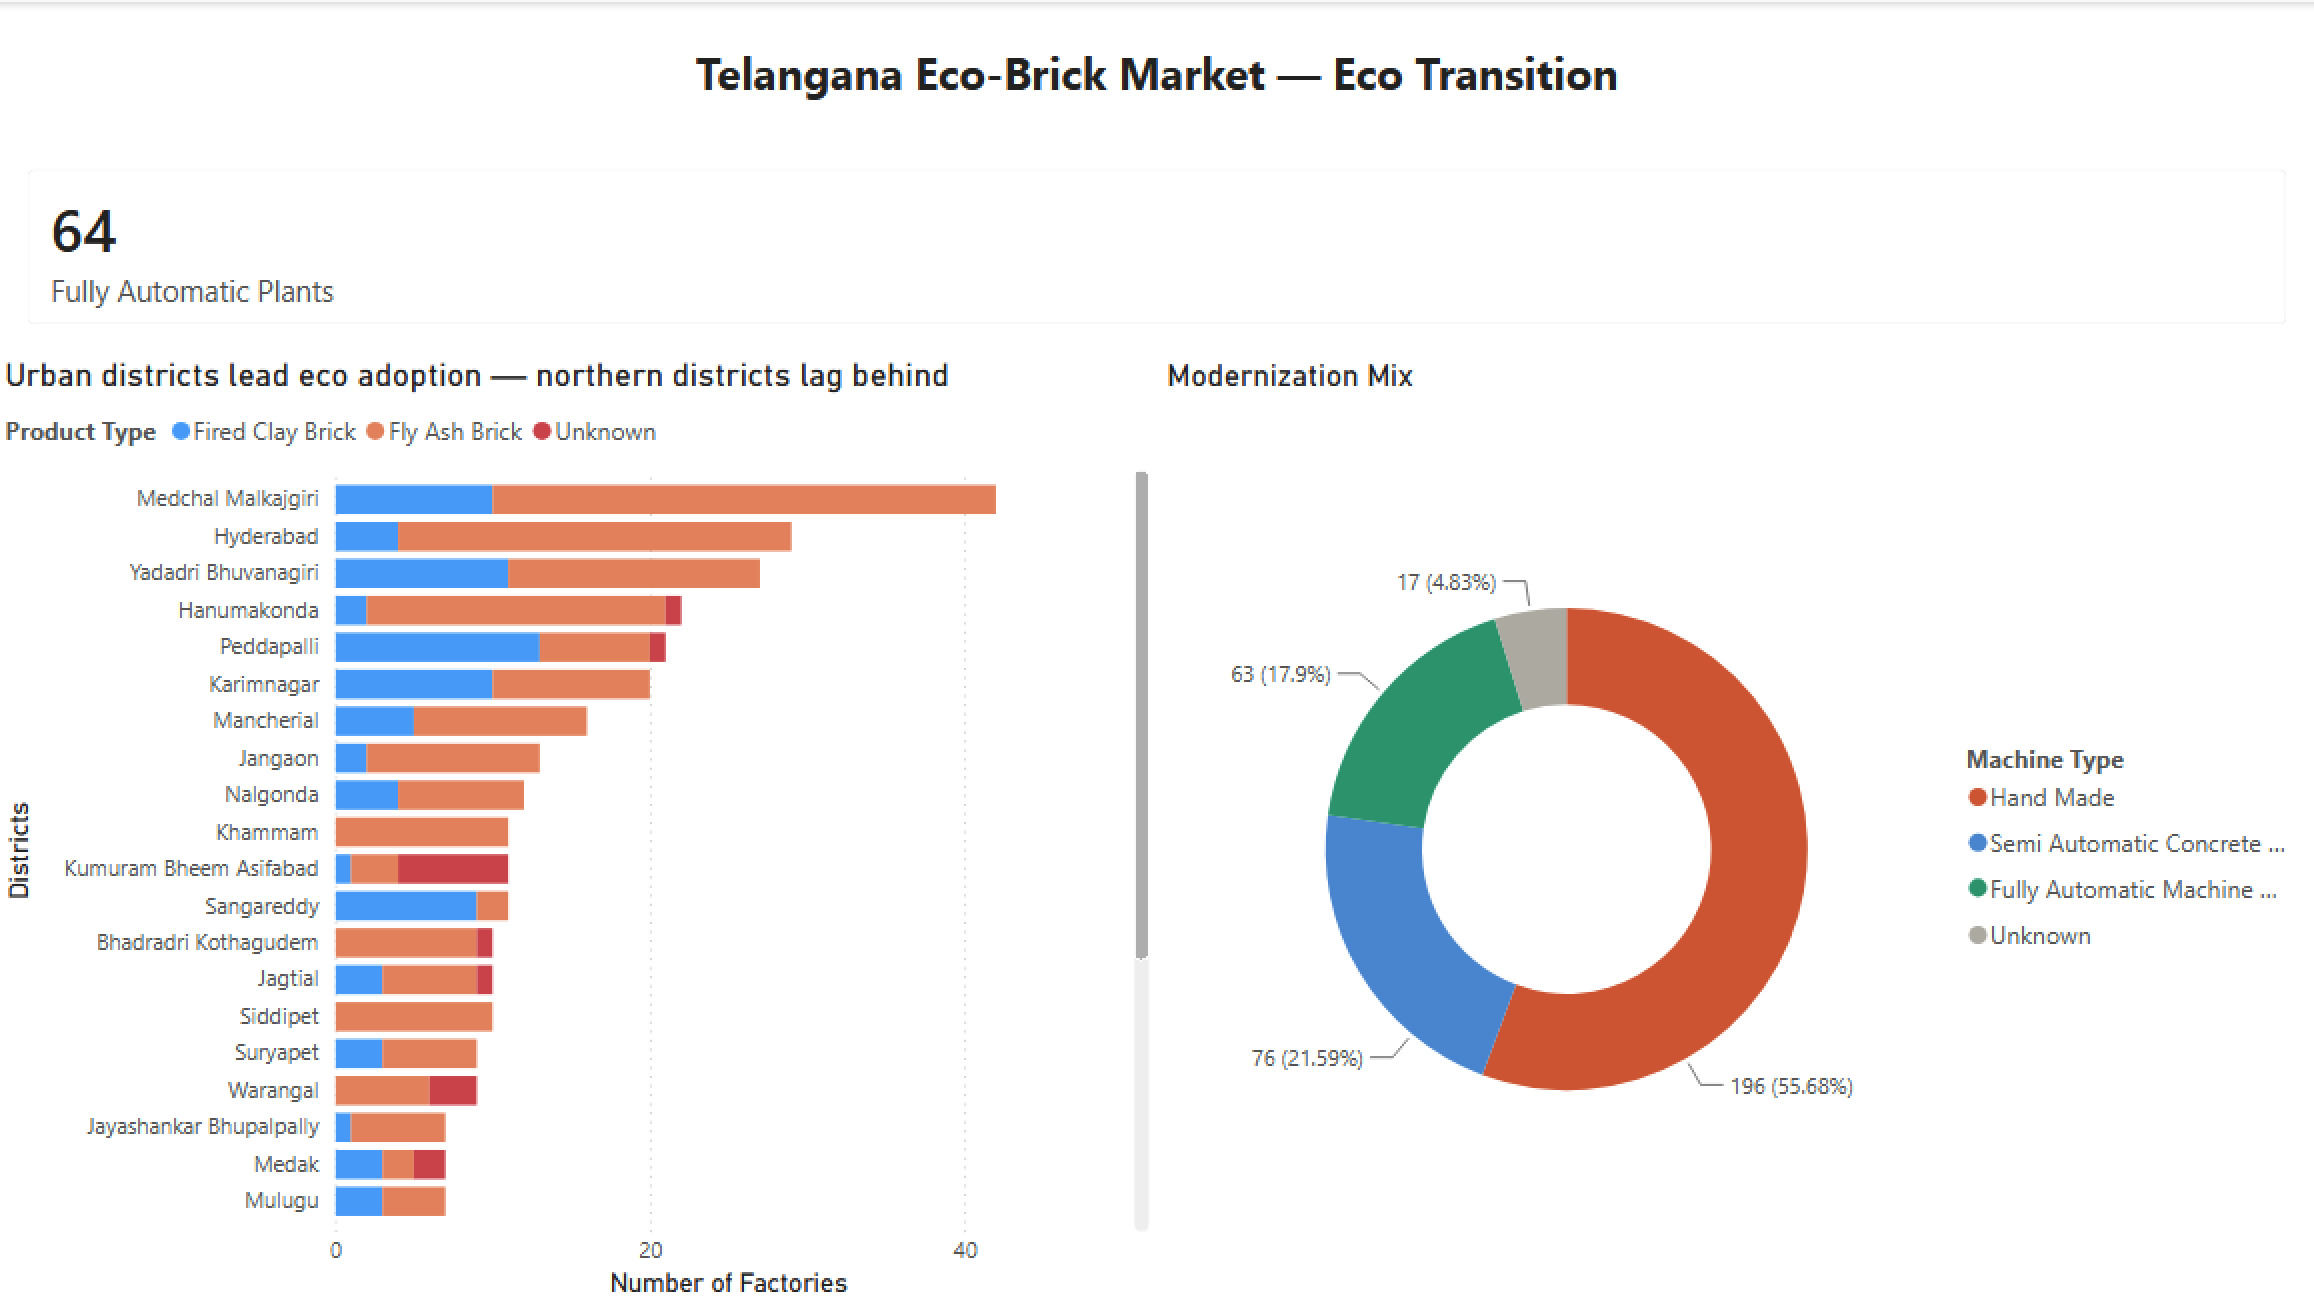

Layout of this report page (visuals, bound fields, positions):
{"tool":"powerbi","page":{"name":"Eco Transition","canvas":[1280,720],"ordinal":1},"visuals":[{"type":"barChart","title":"Product Mix by District","fields":{"Category":["brick_district_summary.Districts"],"Series":["brick_features_v4.Product Type"],"Y":["CountNonNull(brick_features_v4.Company Name)"]},"box":[0,0,524,430],"z":0},{"type":"donutChart","title":"Modernization Mix","fields":{"Category":["brick_features_v4.Machine Type"],"Y":["CountNonNull(brick_features_v4.Company Name)"]},"box":[524,0,524,430],"z":1},{"type":"cardVisual","fields":{"Data":["Sum(brick_district_summary.fully_auto_count)"]},"box":[0,430,1090,290],"z":2}]}

Visuals, with their boxes in screenshot pixels (x1, y1, x2, y2), scaled from the page's 1280x720 canvas onto the 2314x1308 screenshot:
"Product Mix by District" barChart: <bbox>0, 0, 947, 781</bbox>
"Modernization Mix" donutChart: <bbox>947, 0, 1895, 781</bbox>
cardVisual - Sum(brick_district_summary.fully_auto_count): <bbox>0, 781, 1971, 1307</bbox>
